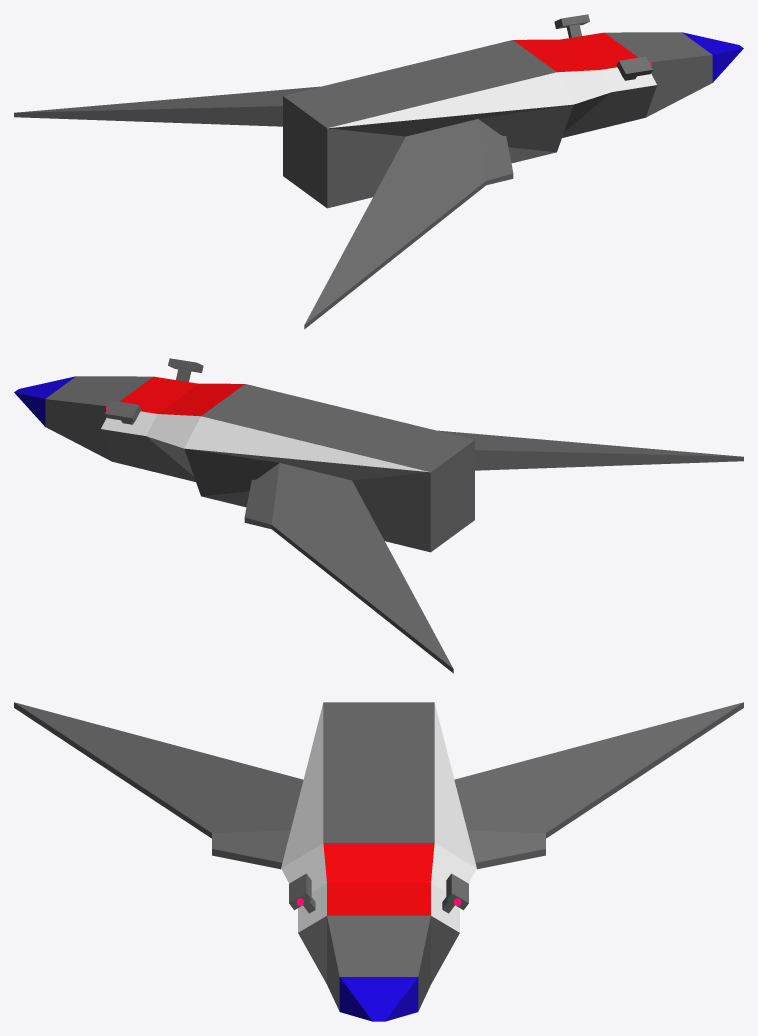
The model's file is Enemy_Ship.fbx.
3 renders of one model, top to bottom at view 1: azimuth 30°, elevation 25°; view 2: azimuth 150°, elevation 25°; view 3: azimuth 270°, elevation 25°, orthographic. The views are drawn at different scales.
Parts seen in each view (by area): view 1: Cube; view 2: Cube; view 3: Cube.
Boxes of the visible parts, box(x1,y1,x2,y2) form: Cube: box(14, 14, 743, 329); Cube: box(14, 358, 743, 673); Cube: box(14, 702, 743, 1021).
Size of the model in its own units: 1521 by 207 by 1313.
